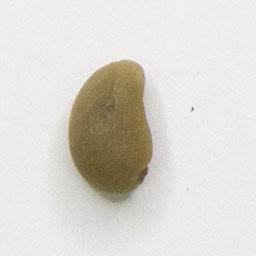premium: (65, 55, 157, 197)
